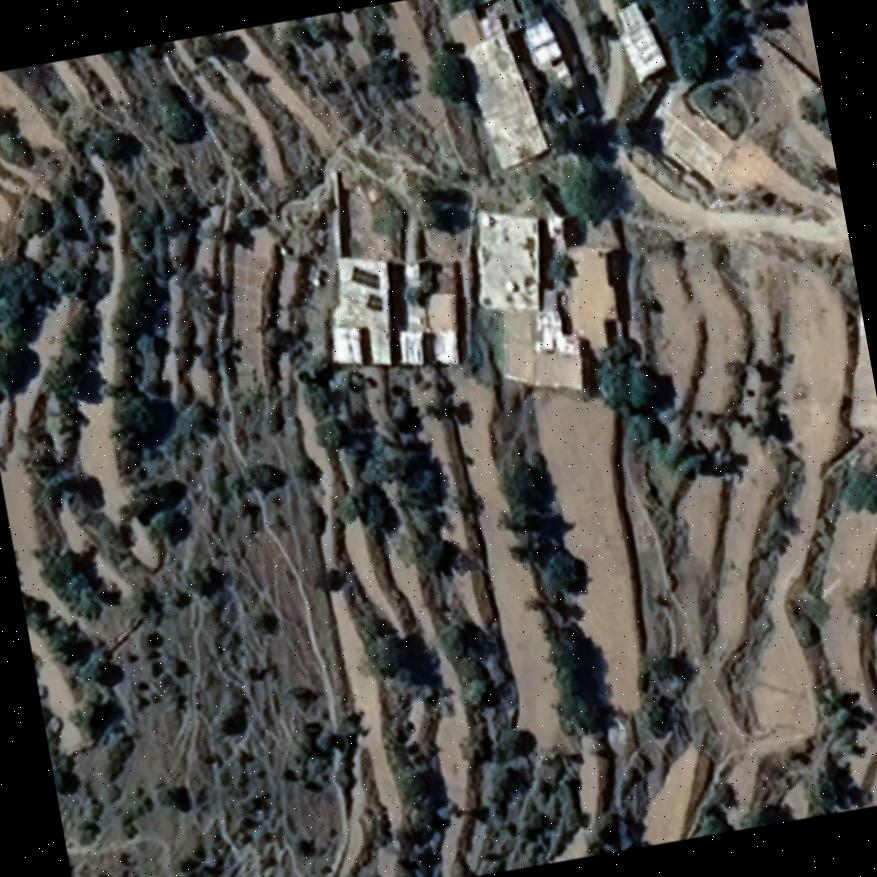Solarpanel: (347, 262, 382, 296), (364, 292, 384, 314)
